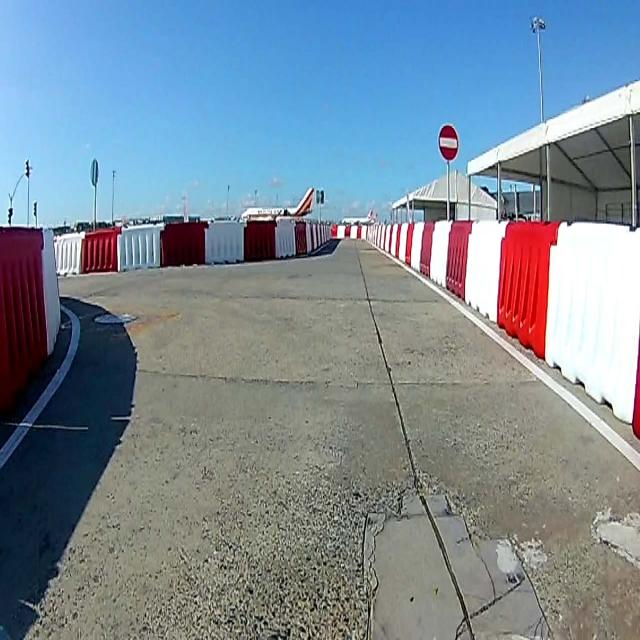girisyok: (438, 121, 459, 162)
